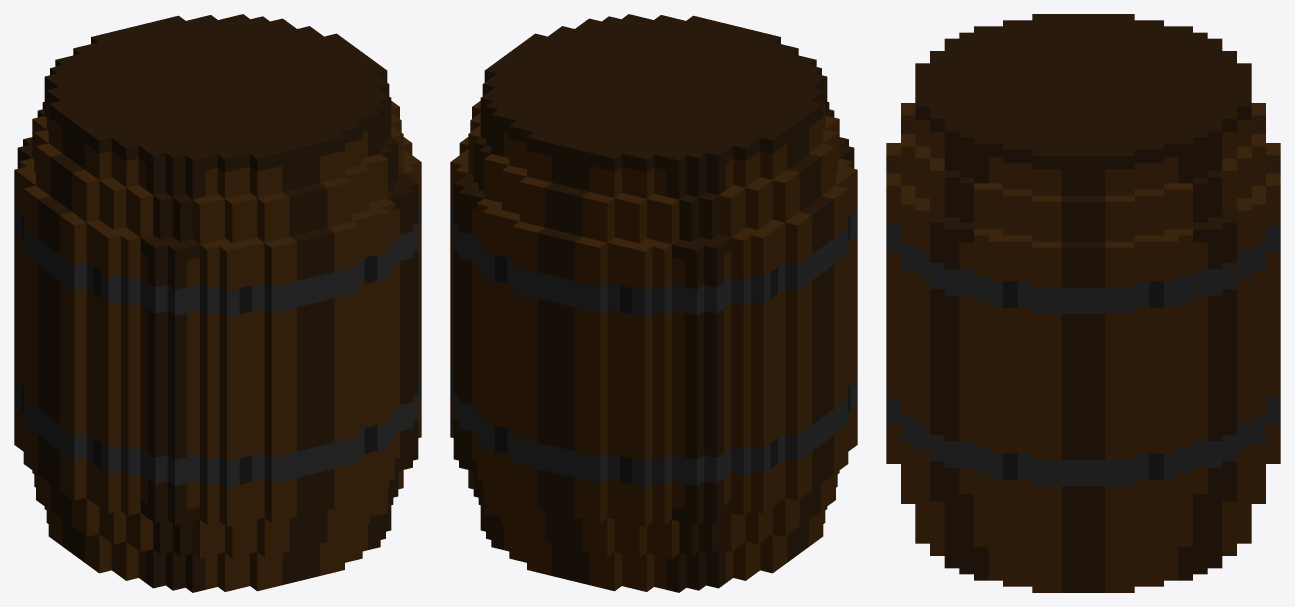
Rendered from Barrel.obj.
3 views of the same model, side by side, from view 1: azimuth 30°, elevation 25°; view 2: azimuth 150°, elevation 25°; view 3: azimuth 270°, elevation 25° (orthographic).
Parts seen in each view (by area): view 1: Barrel; view 2: Barrel; view 3: Barrel.
Part boxes in pixels (box(x1,y1,x2,y2)): Barrel: box(14, 14, 421, 592); Barrel: box(450, 14, 857, 592); Barrel: box(886, 14, 1280, 592).
Bounding box in the file's own units: 27 × 33 × 27.
Materials: 1 (1 with a texture image).
